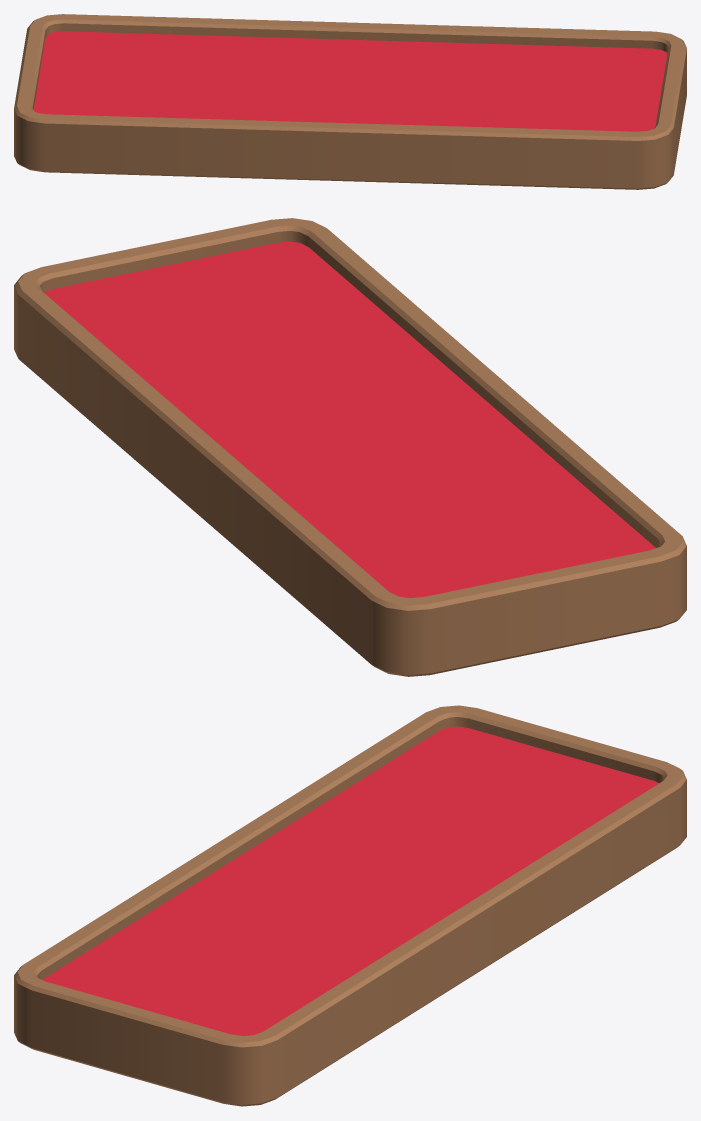
File: StampBox.fbx
3 views of the same model, one above another, from view 1: azimuth 30°, elevation 25°; view 2: azimuth 150°, elevation 25°; view 3: azimuth 270°, elevation 25° (orthographic). The views are drawn at different scales.
Parts seen in each view (by area): view 1: Cube.011; view 2: Cube.011; view 3: Cube.011.
Part boxes in pixels (x1,y1,x2,y2): Cube.011: (14,14,686,189); Cube.011: (14,218,686,676); Cube.011: (14,705,686,1106).
Size of the model in its own units: 0.2101 by 0.0183 by 0.1755.
